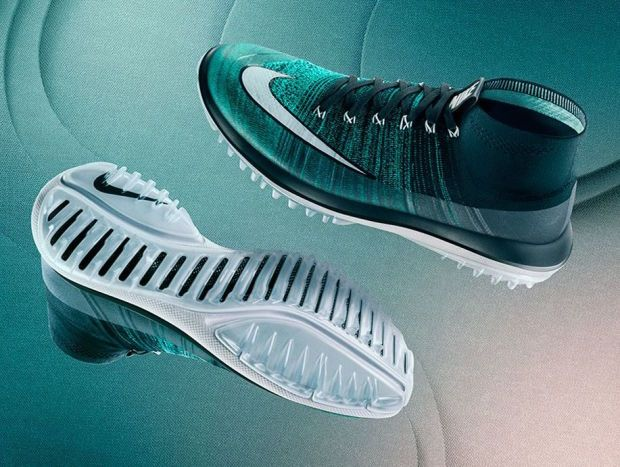nike: (242, 64, 375, 179)
